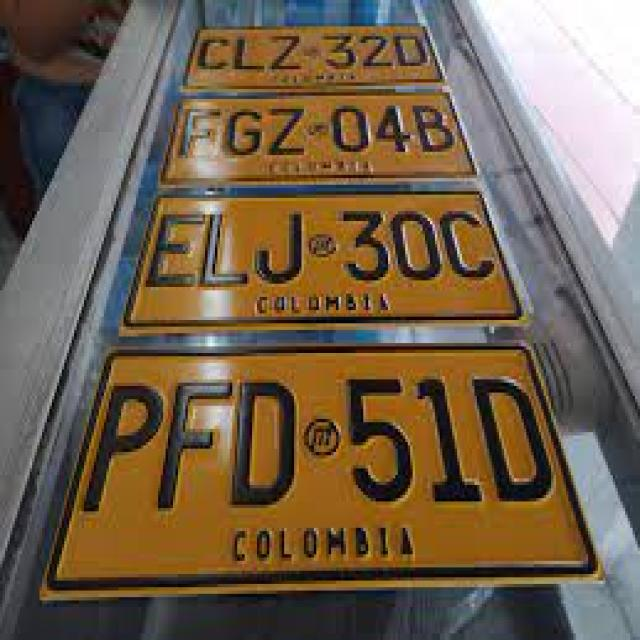placa_moto: (41, 344, 600, 599), (132, 195, 522, 328), (155, 89, 482, 178), (177, 17, 450, 97)
